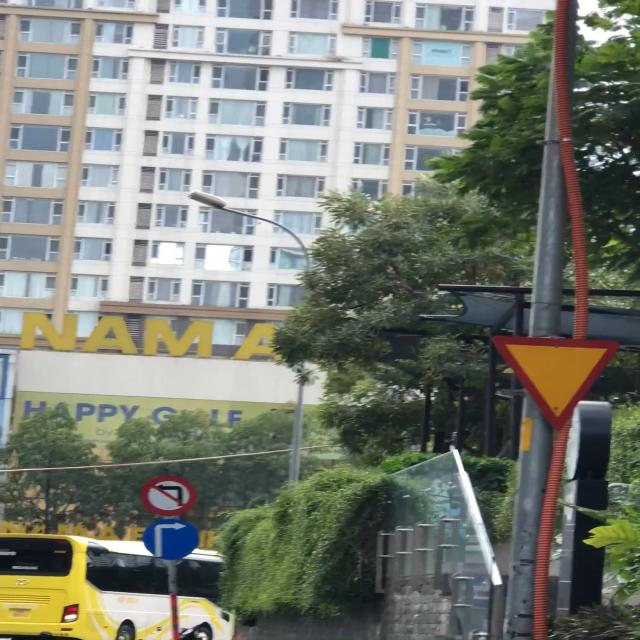Bien bao cam re trai: (136, 472, 196, 518)
Bien bao giao nhau voi duong uu tien: (488, 331, 626, 432)
Bien bao huong di phai theo: (143, 516, 206, 562)
